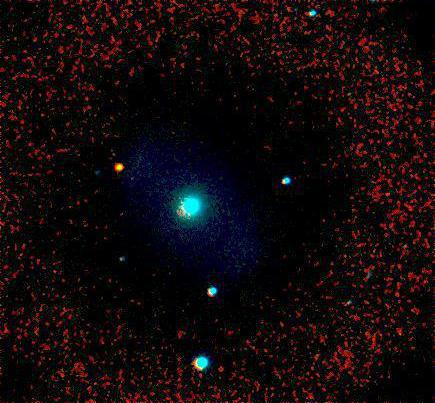star: (103, 153, 133, 183)
